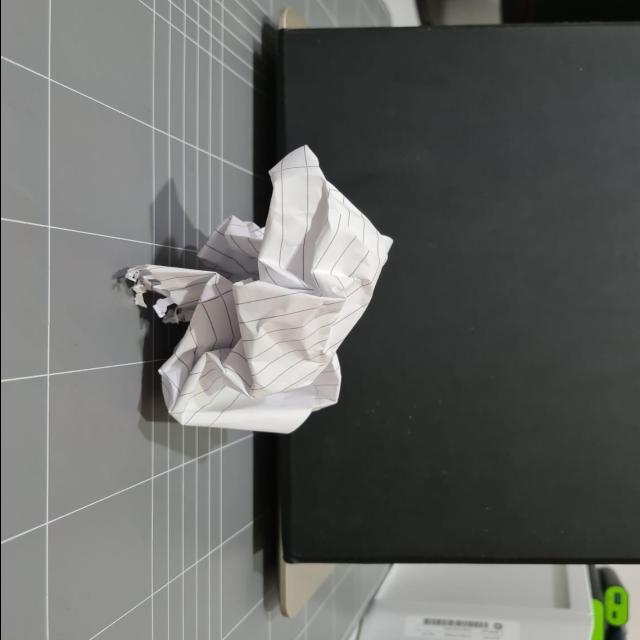kertas: (132, 143, 386, 440)
